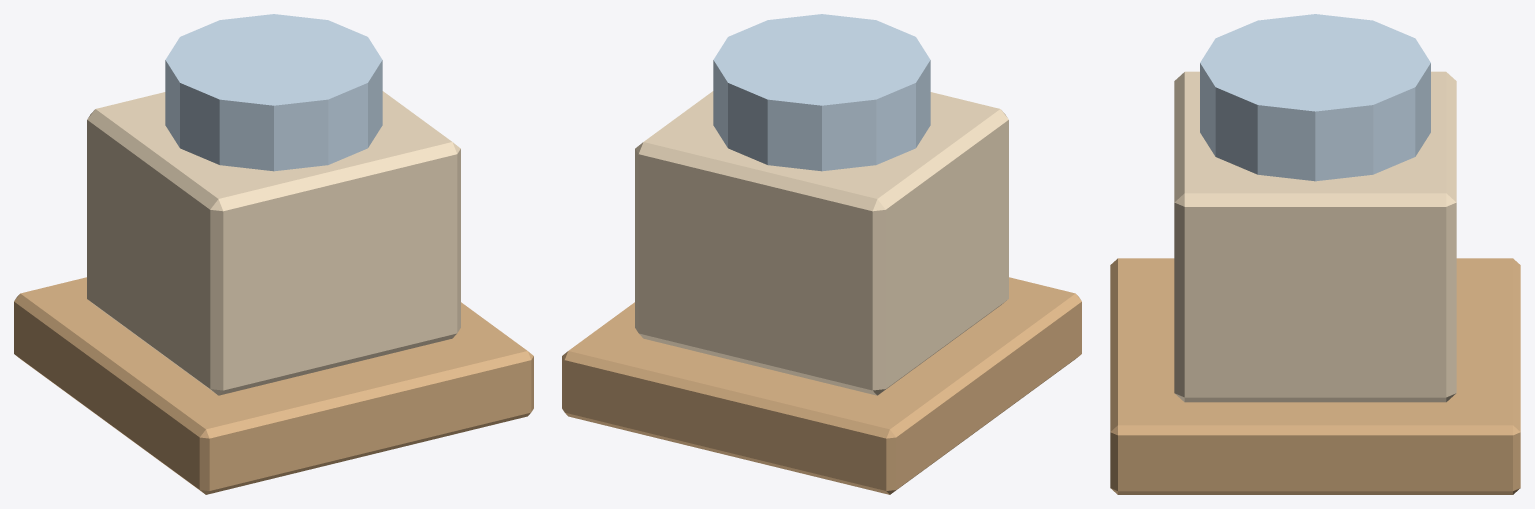
File: atelier.glb
The picture shows the model from 3 angles, left to right: view 1: azimuth 30°, elevation 25°; view 2: azimuth 150°, elevation 25°; view 3: azimuth 270°, elevation 25°; orthographic projection. The views are drawn at different scales.
Visible parts, largest first — view 1: atelier_body, atelier_base, atelier_roof; view 2: atelier_body, atelier_base, atelier_roof; view 3: atelier_body, atelier_base, atelier_roof.
Part boxes in pixels (bbox=[...]): atelier_body: bbox=[87, 91, 460, 395]; atelier_base: bbox=[14, 277, 533, 494]; atelier_roof: bbox=[165, 14, 382, 171]; atelier_body: bbox=[635, 91, 1008, 395]; atelier_base: bbox=[562, 277, 1081, 494]; atelier_roof: bbox=[713, 14, 930, 171]; atelier_body: bbox=[1174, 71, 1456, 402]; atelier_base: bbox=[1110, 258, 1520, 494]; atelier_roof: bbox=[1200, 14, 1430, 181].
Size of the model in its own units: 1.6 by 1.5 by 1.6.
